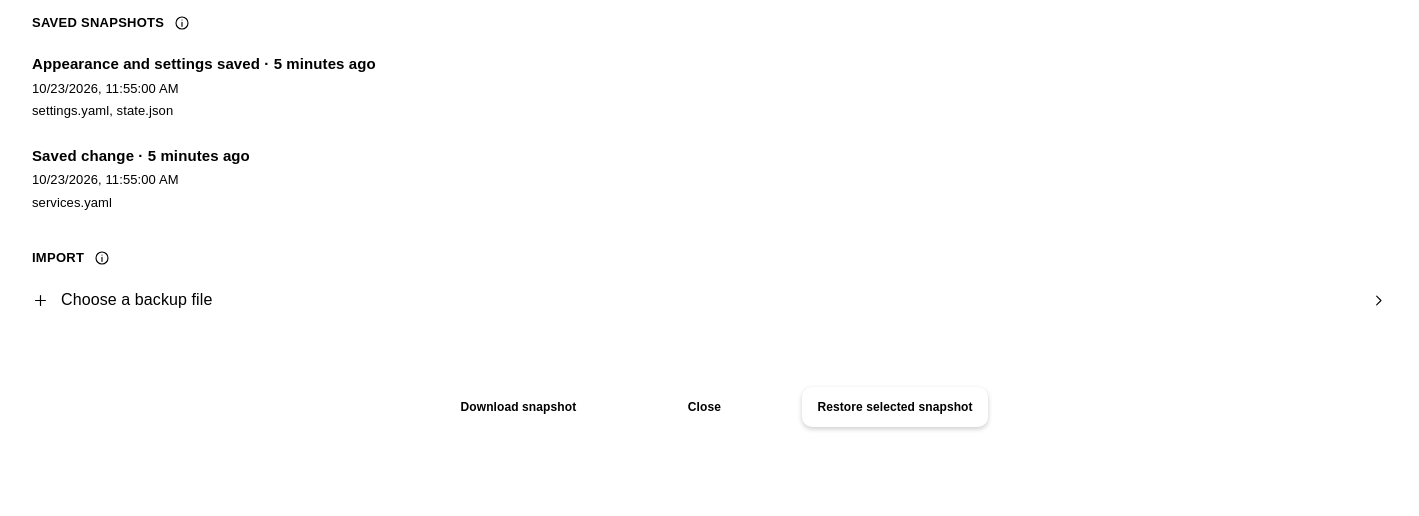
Test: Snapshot action and age › shows the action and its age, keeps the exact time and files, and refreshes the age while open
This screenshot has width=1419, height=516.
Expected: the button with aria-label "Appearance and settings saved, 5 minutes ago" shows "Appearance and settings saved · 5 minutes ago", [16,41,1402,132]
What coordinates should you click on to do the following:
click the button with aria-label "Saved change, 5 minutes ago"
I would click on:
 (83, 155)
Its box is [16,132,1402,224].
Wait 60000 ms
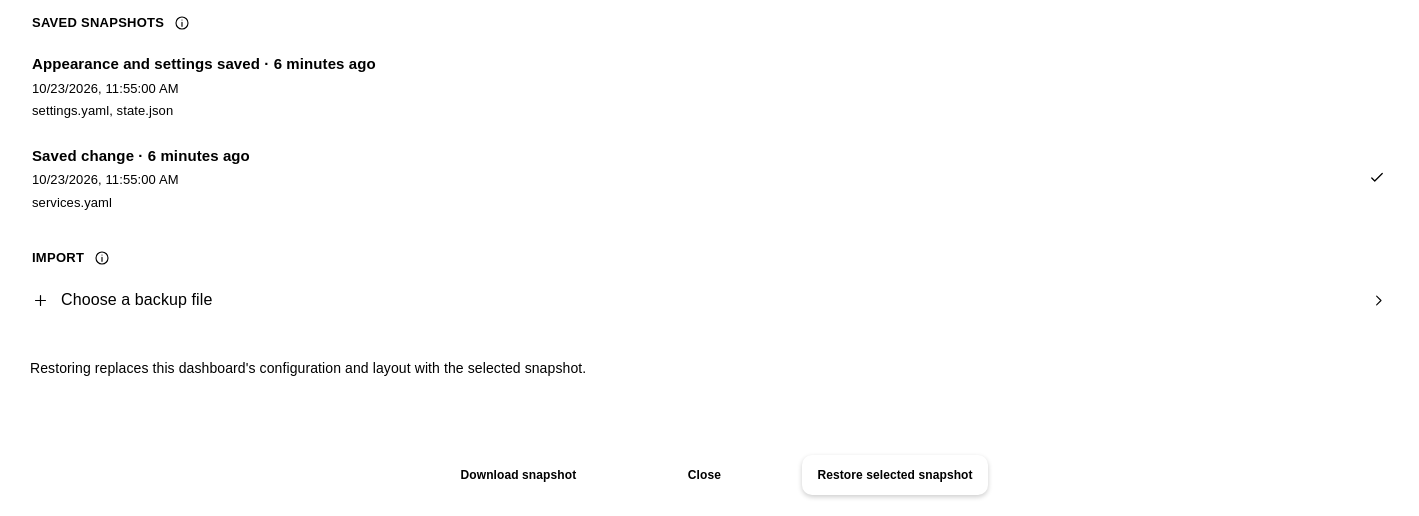
Expected: the button named "Appearance and settings saved, 5 minutes ago" shows "Appearance and settings saved · 6 minutes ago", [16,41,1402,132]
Expected: the button named "Saved change, 5 minutes ago" shows "Saved change · 6 minutes ago", [16,132,1402,224]
